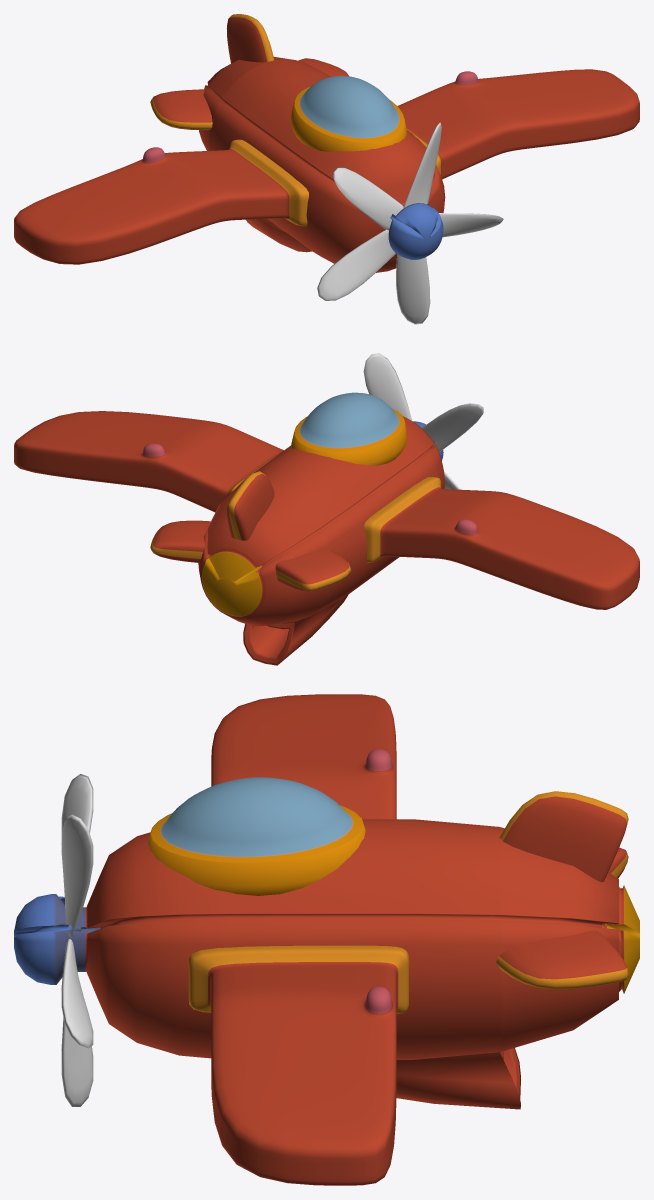
3 renders of one model, top to bottom at view 1: azimuth 30°, elevation 25°; view 2: azimuth 150°, elevation 25°; view 3: azimuth 270°, elevation 25°, orthographic. The views are drawn at different scales.
Parts seen in each view (by area): view 1: Sphere.002, Cube.013; view 2: Sphere.002, Cube.013; view 3: Sphere.002, Cube.013.
Boxes of the visible parts, x1=… form: Sphere.002: x1=14, y1=14, x2=639, y2=272; Cube.013: x1=317, y1=122, x2=503, y2=324; Sphere.002: x1=14, y1=392, x2=639, y2=665; Cube.013: x1=363, y1=353, x2=483, y2=489; Sphere.002: x1=14, y1=694, x2=639, y2=1185; Cube.013: x1=61, y1=774, x2=93, y2=1106.
Size of the model in its own units: 899 by 291 by 519.
